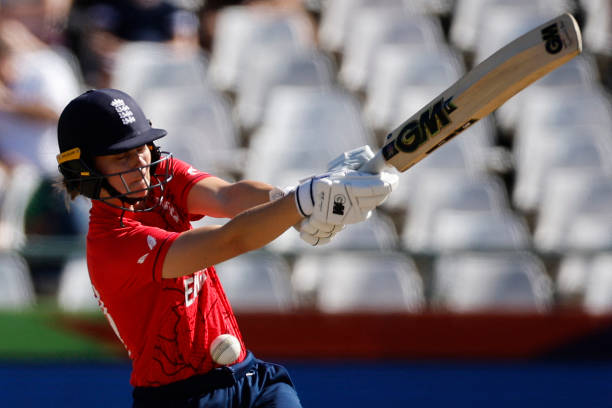bottom left: (556, 9, 581, 25)
bottom right: (565, 40, 590, 63)
top left: (368, 121, 400, 147)
top right: (384, 162, 415, 178)
